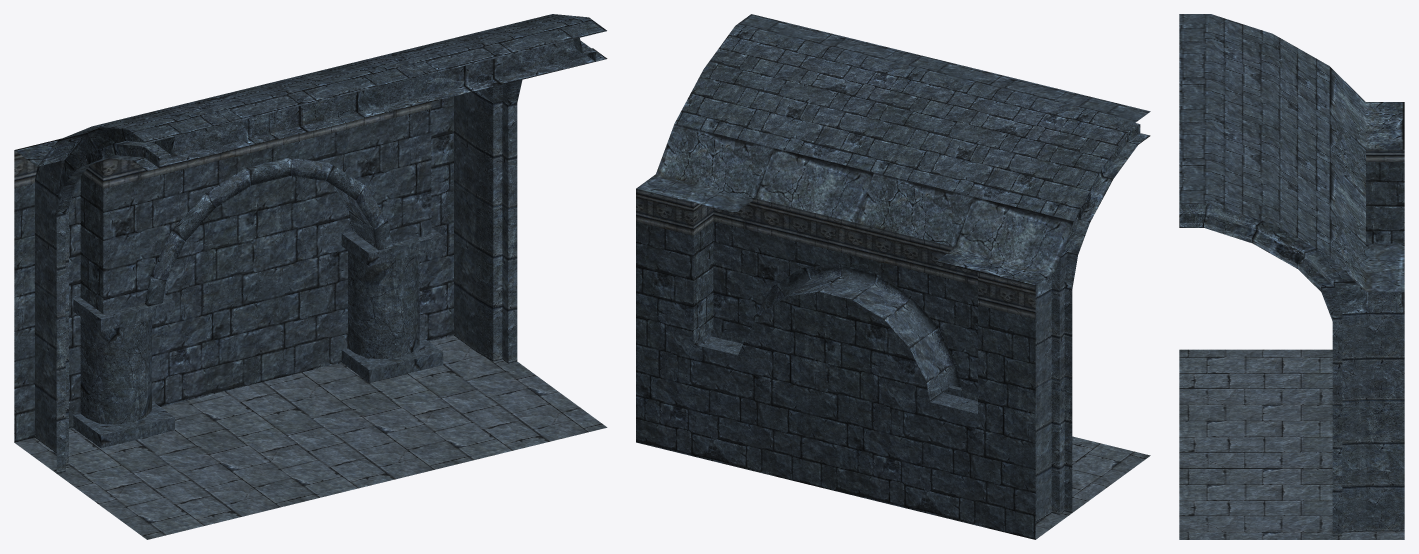
Rendered from wall_3.FBX.
3 views of the same model, side by side, from view 1: azimuth 30°, elevation 25°; view 2: azimuth 150°, elevation 25°; view 3: azimuth 270°, elevation 25° (orthographic). The views are drawn at different scales.
Visible parts, largest first — view 1: wall_3; view 2: wall_3; view 3: wall_3.
Part boxes in pixels (x1,y1,x2,y2): wall_3: (14, 14, 607, 539); wall_3: (636, 14, 1150, 539); wall_3: (1179, 14, 1404, 539).
Bounding box in the file's own units: 91.85 × 75.6 × 45.93.
